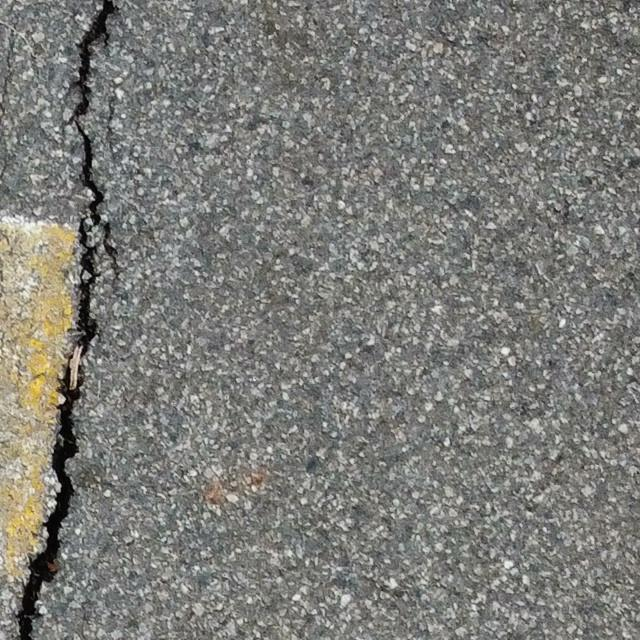LongitudinalCrack: (19, 1, 122, 640)
